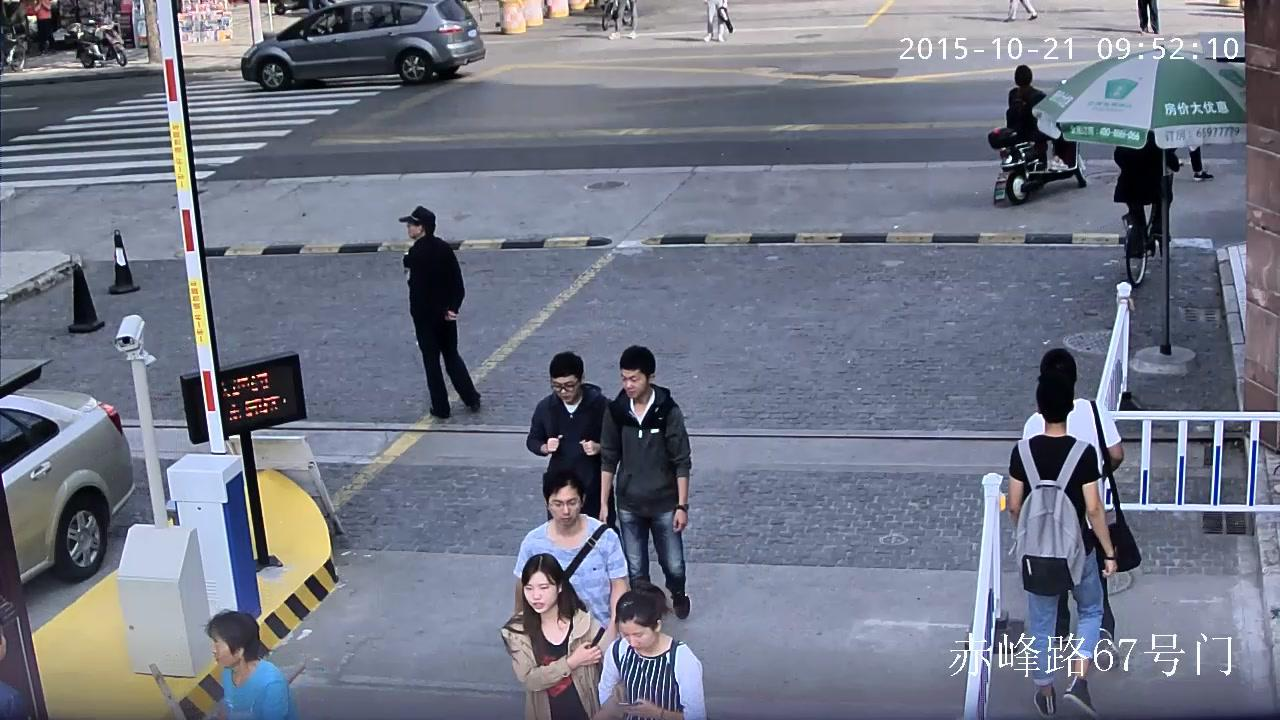person: (1007, 370, 1117, 720), (1021, 349, 1141, 659), (598, 345, 692, 619), (513, 471, 629, 661), (500, 552, 609, 720), (398, 204, 480, 417), (526, 351, 615, 526), (597, 584, 705, 720), (987, 65, 1085, 203), (201, 610, 299, 720), (1112, 130, 1179, 287), (1113, 130, 1179, 240), (1005, 65, 1068, 169), (21, 0, 50, 57), (704, 0, 733, 42), (609, 0, 637, 40), (1137, 0, 1159, 33)
